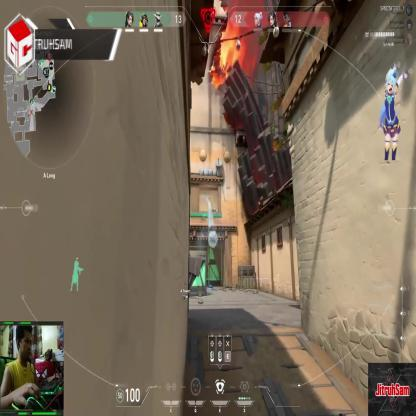enemy: (210, 206, 218, 231)
enemy_head: (212, 207, 216, 212)
